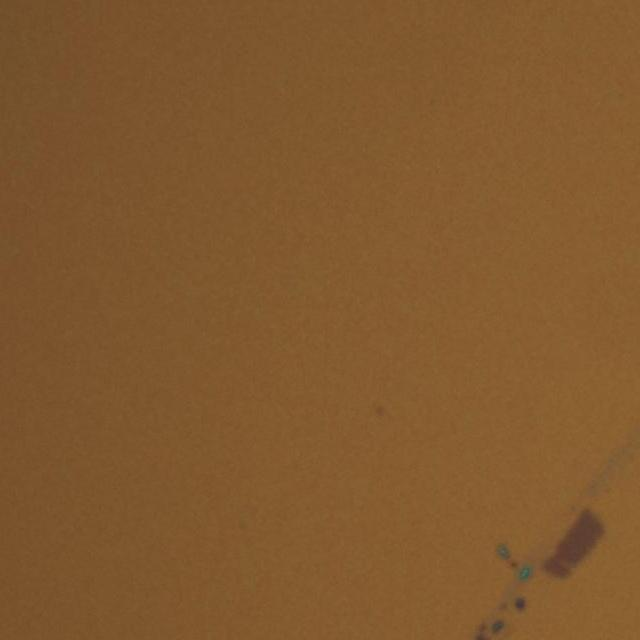monolayer-eWW4: (538, 503, 604, 578)
